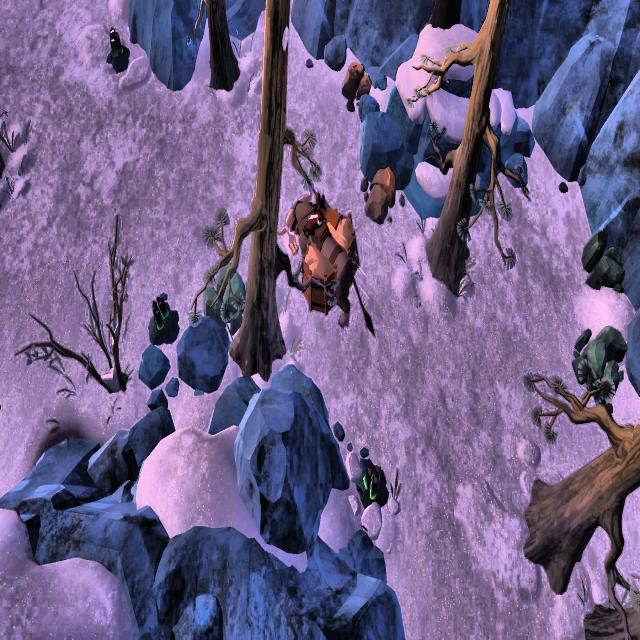ore_t3: (148, 294, 170, 333), (362, 461, 382, 503), (108, 25, 124, 63)
rock_t3: (568, 321, 626, 406), (202, 255, 248, 328), (578, 228, 624, 295)
